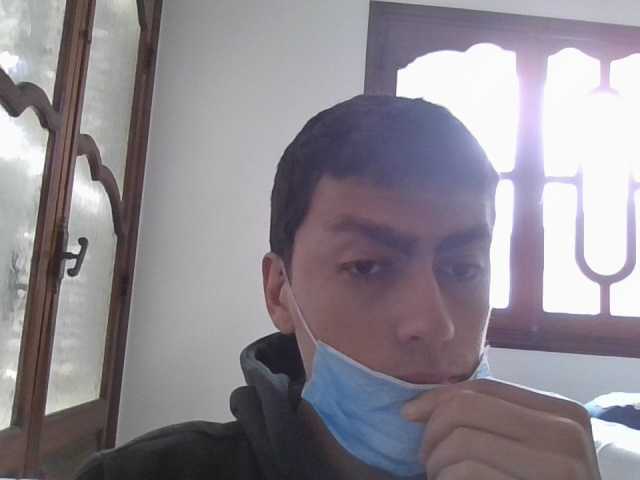mask_weared_incorrect: (282, 99, 510, 479)
